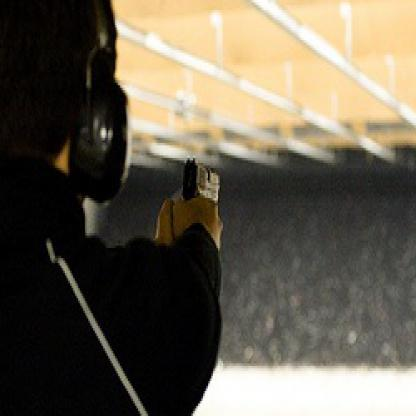gun: (183, 158, 221, 208)
